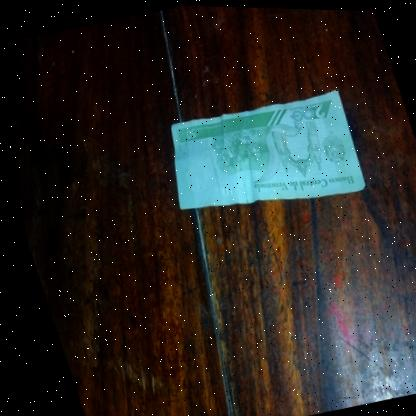fifty-back-vef: (145, 82, 369, 231)
